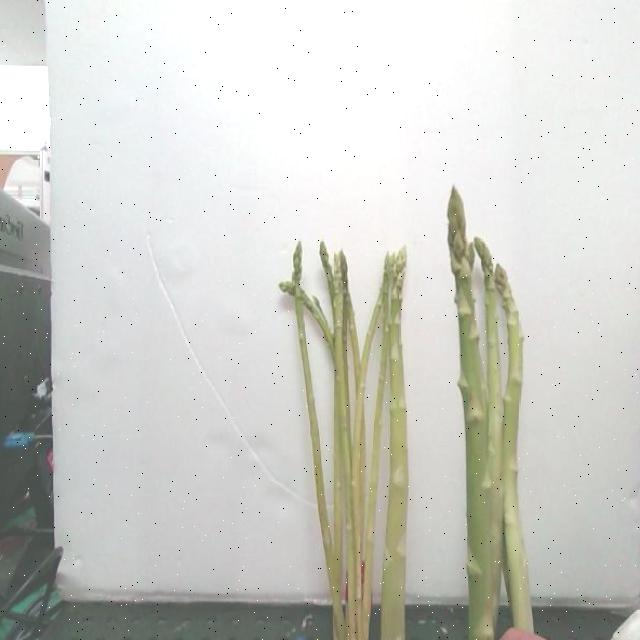aspargus: (447, 185, 495, 640), (293, 241, 347, 640)
